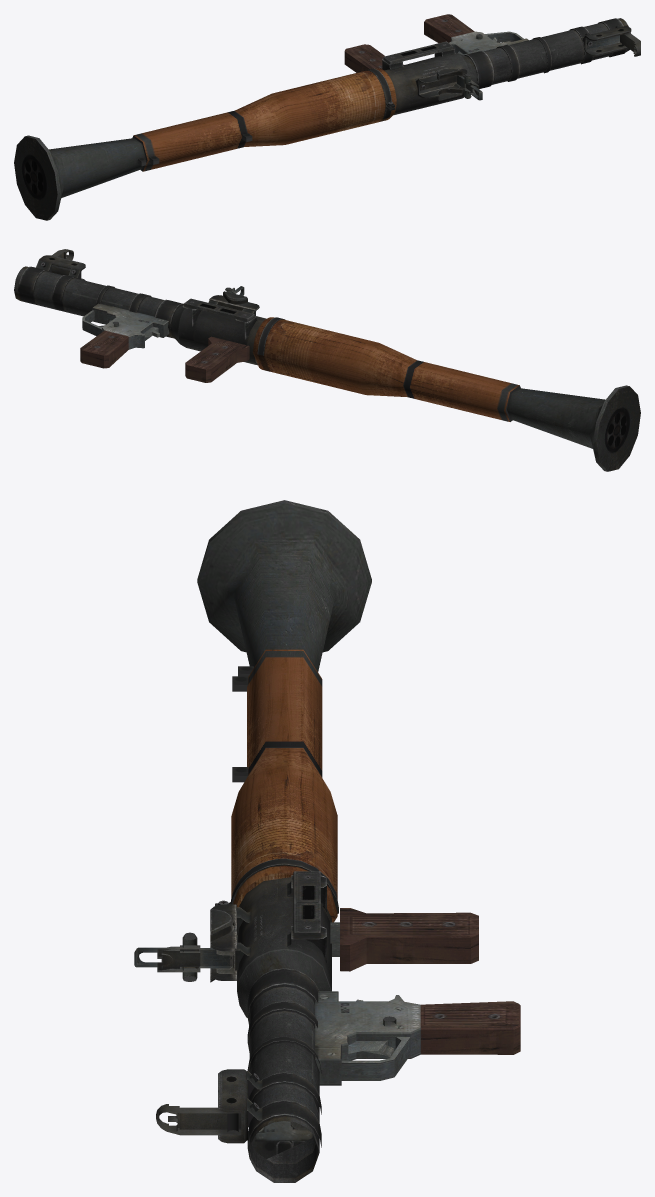
Rendered from viewmodel_rpg7_LOD0.obj.
3 views of the same model, one above another, from view 1: azimuth 30°, elevation 25°; view 2: azimuth 150°, elevation 25°; view 3: azimuth 270°, elevation 25° (orthographic). The views are drawn at different scales.
Visible parts, largest first — view 1: mtl_weapon_rpg7; view 2: mtl_weapon_rpg7; view 3: mtl_weapon_rpg7.
Boxes of the visible parts, left/top/right/bottom form: mtl_weapon_rpg7: left=14, top=14, right=640, bottom=220; mtl_weapon_rpg7: left=14, top=249, right=640, bottom=471; mtl_weapon_rpg7: left=134, top=500, right=520, bottom=1182.
Size of the model in its own units: 93.4 by 12.01 by 26.57.
